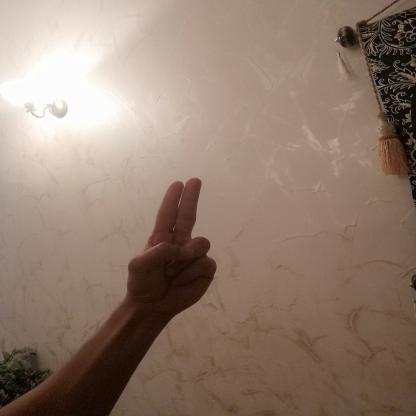TA: (110, 168, 227, 324)
